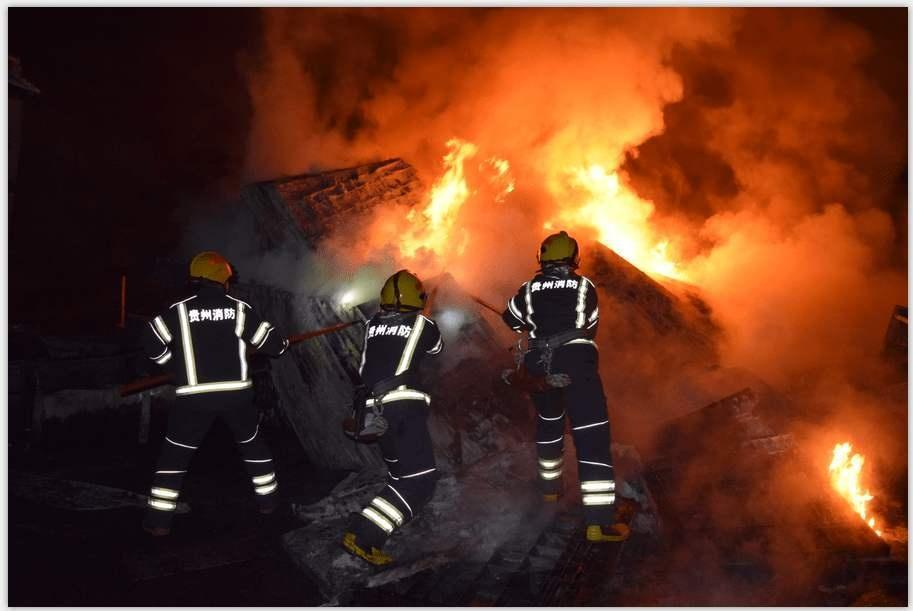fire: (557, 114, 698, 281), (380, 128, 493, 275), (819, 433, 904, 548)
